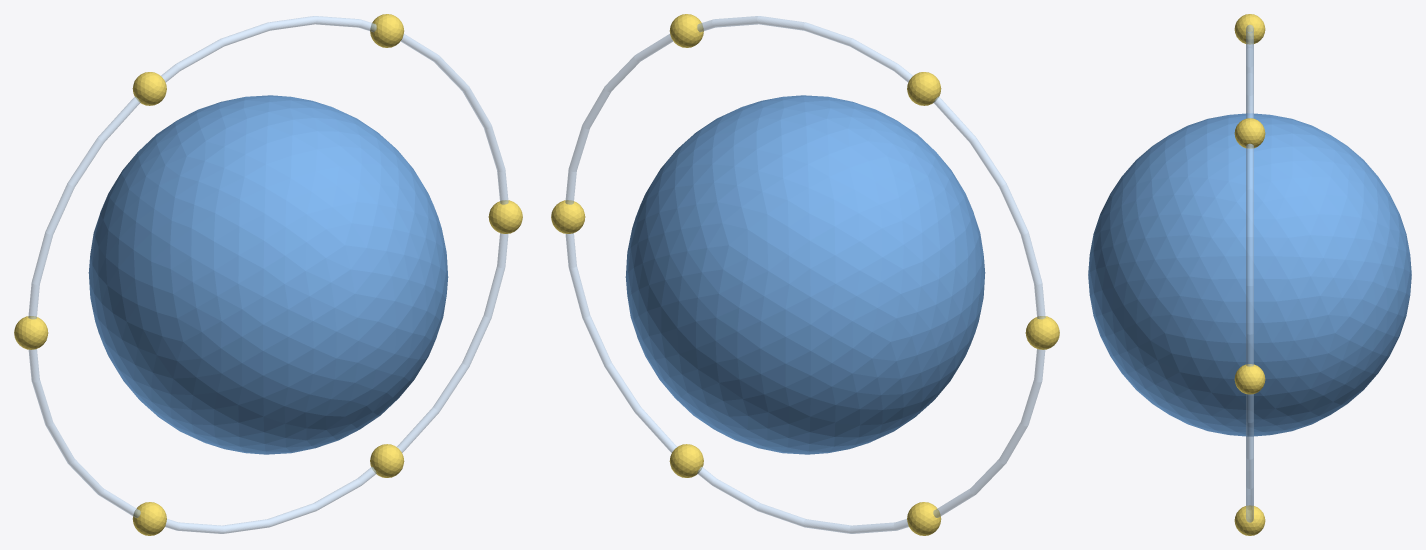
The model's file is Mg_plus2.glb.
3 renders of one model, left to right at view 1: azimuth 30°, elevation 25°; view 2: azimuth 150°, elevation 25°; view 3: azimuth 270°, elevation 25°, orthographic. The views are drawn at different scales.
Parts seen in each view (by area): view 1: ion_core, electron_shell, electron_0, electron_4, electron_5, electron_1, electron_2, electron_3; view 2: ion_core, electron_shell, electron_0, electron_4, electron_5, electron_1, electron_2, electron_3; view 3: ion_core, electron_shell, electron_1, electron_2, electron_5, electron_0.
Boxes of the visible parts, bbox=[...] form: ion_core: bbox=[88, 95, 448, 454]; electron_shell: bbox=[28, 16, 508, 533]; electron_0: bbox=[488, 200, 522, 233]; electron_4: bbox=[132, 502, 166, 535]; electron_5: bbox=[370, 444, 404, 477]; electron_1: bbox=[370, 14, 404, 47]; electron_2: bbox=[132, 72, 166, 105]; electron_3: bbox=[14, 316, 48, 349]; ion_core: bbox=[625, 95, 985, 454]; electron_shell: bbox=[565, 16, 1045, 533]; electron_0: bbox=[551, 200, 585, 233]; electron_4: bbox=[907, 502, 941, 535]; electron_5: bbox=[669, 444, 703, 477]; electron_1: bbox=[669, 14, 703, 47]; electron_2: bbox=[907, 72, 941, 105]; electron_3: bbox=[1025, 316, 1059, 349]; ion_core: bbox=[1088, 113, 1411, 436]; electron_shell: bbox=[1246, 25, 1253, 522]; electron_1: bbox=[1234, 118, 1265, 148]; electron_2: bbox=[1234, 14, 1265, 44]; electron_5: bbox=[1234, 505, 1265, 535]; electron_0: bbox=[1234, 364, 1265, 394].
Bounding box in the file's own units: 3.4 × 3.25 × 2.1.
